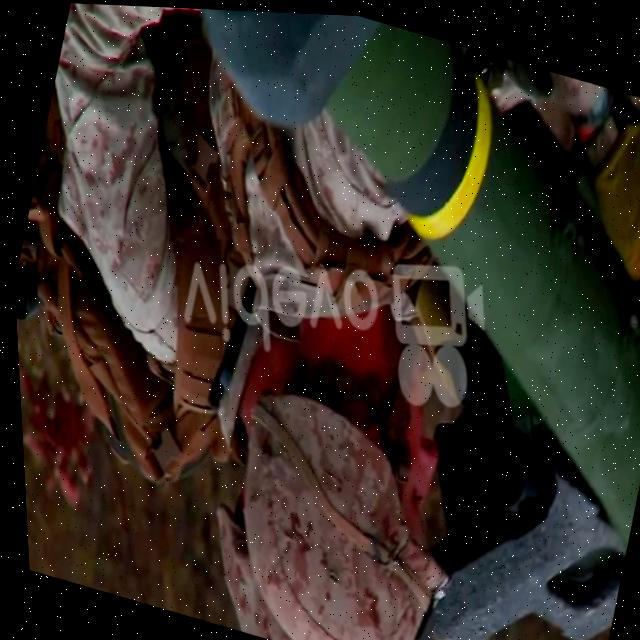rocket: (69, 2, 640, 640)
